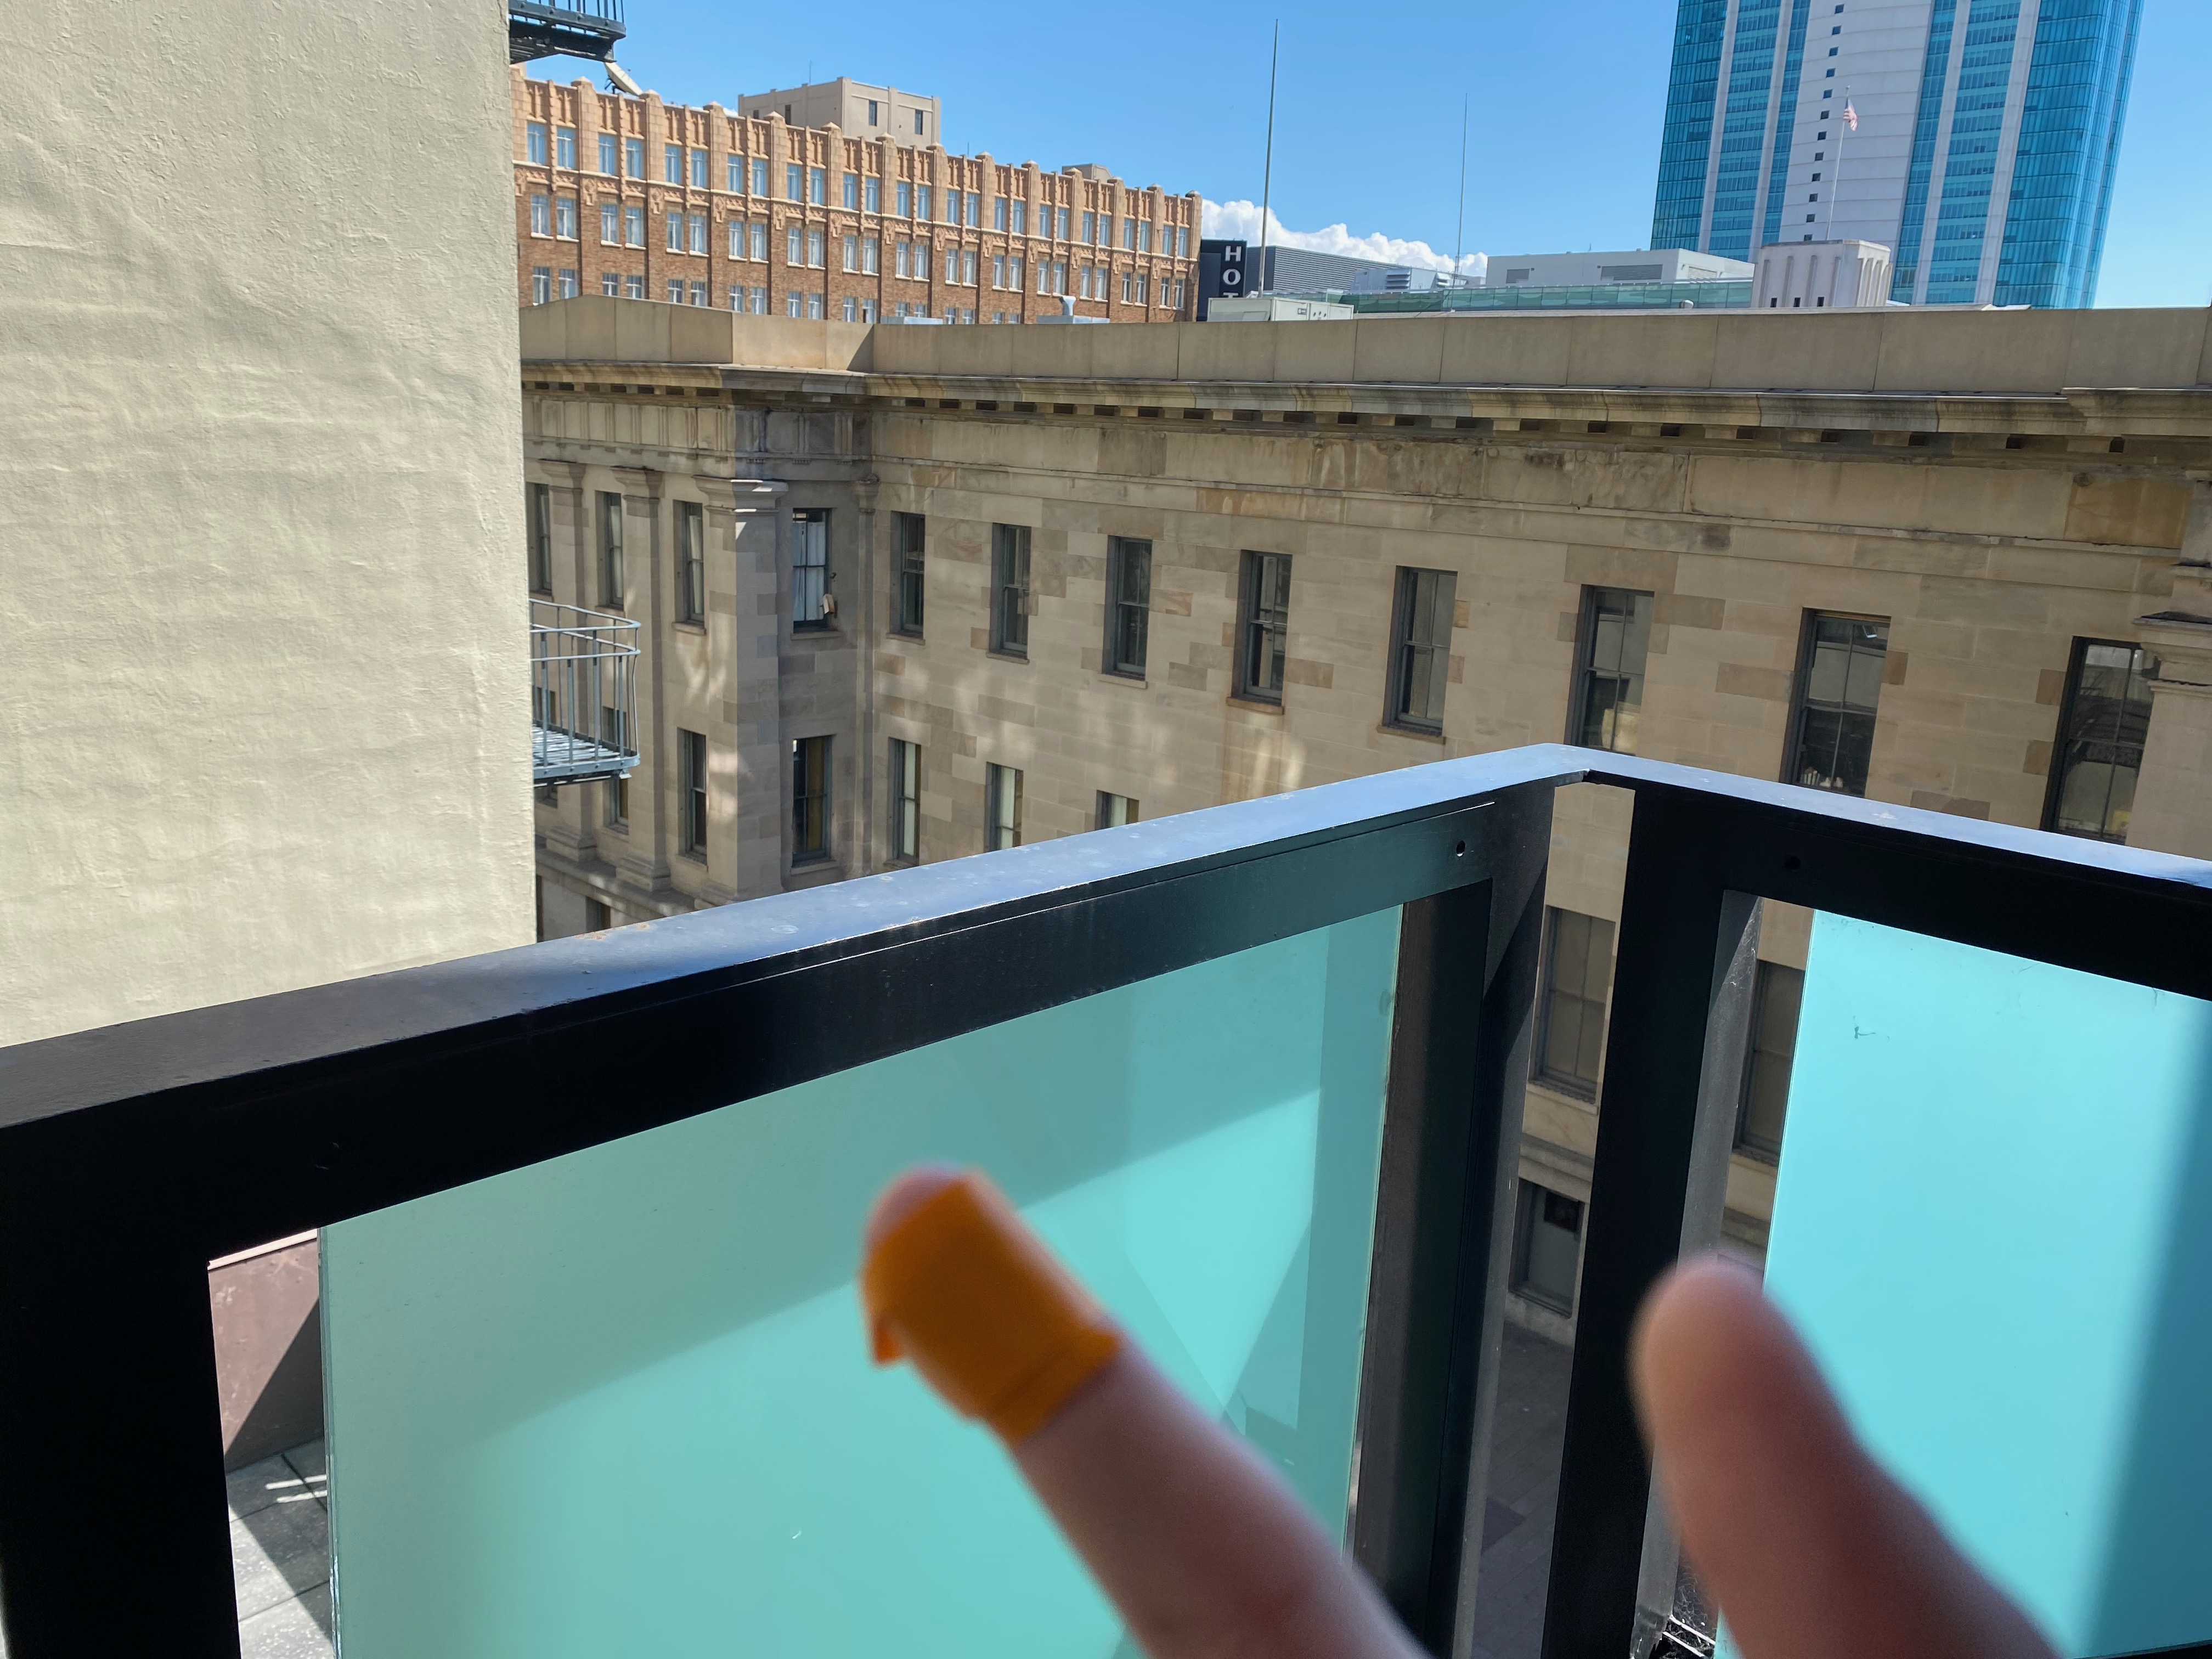fingertip: (799, 1162, 1167, 1417)
